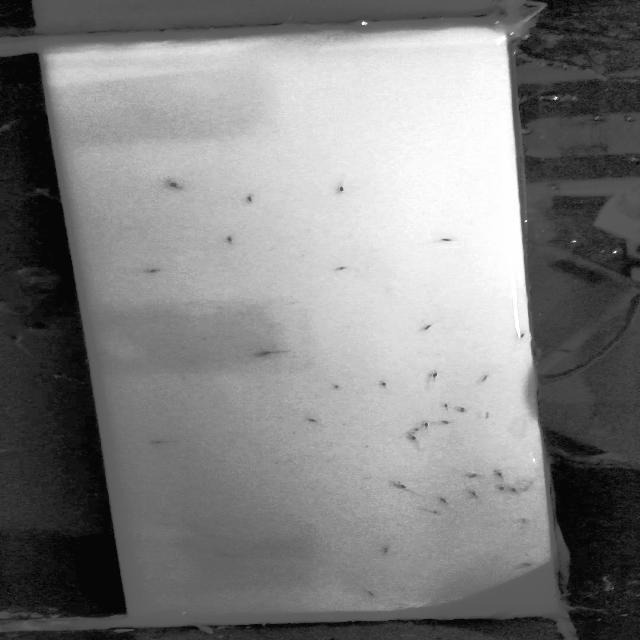shrimp: (412, 322, 460, 339), (254, 346, 298, 364), (324, 179, 356, 196), (300, 416, 336, 431), (433, 236, 468, 250), (156, 178, 190, 192), (324, 262, 362, 274), (211, 551, 245, 562), (398, 434, 428, 446), (140, 265, 169, 277), (435, 495, 458, 510), (140, 437, 176, 446), (374, 543, 396, 557), (372, 378, 392, 393), (427, 368, 448, 382), (455, 401, 472, 418), (393, 480, 413, 494), (325, 381, 349, 392), (467, 488, 491, 499), (462, 470, 484, 482), (436, 417, 459, 428), (238, 196, 266, 205), (416, 418, 436, 430), (492, 482, 510, 495), (509, 484, 526, 496), (221, 234, 240, 244), (489, 470, 510, 477)
